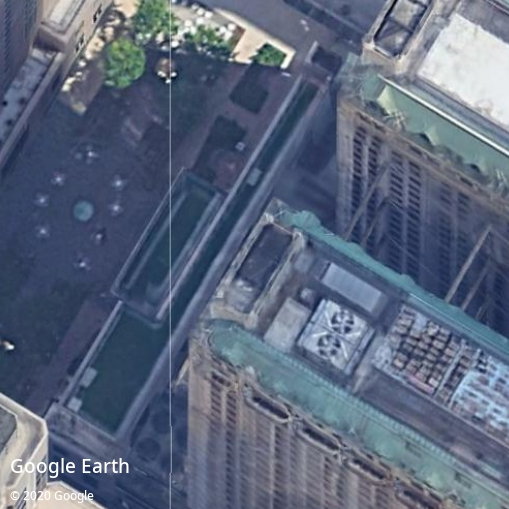Vent: (317, 334, 341, 358), (331, 311, 354, 335)
